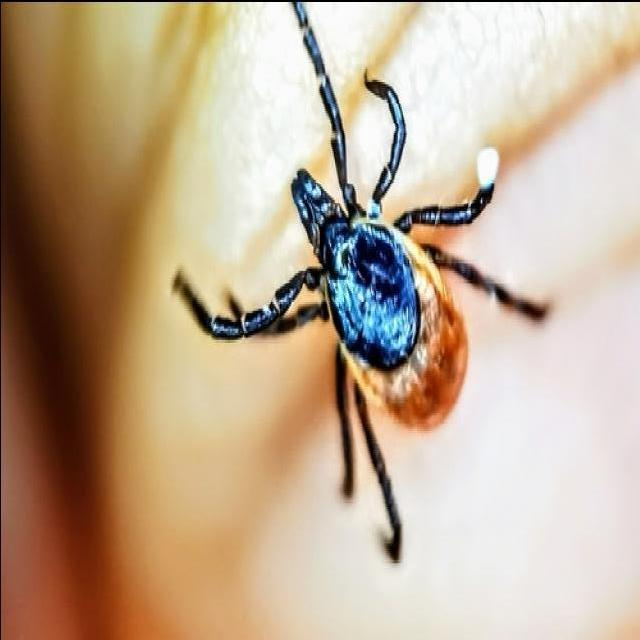Ixodes Ricinus-F: (169, 0, 550, 560)
